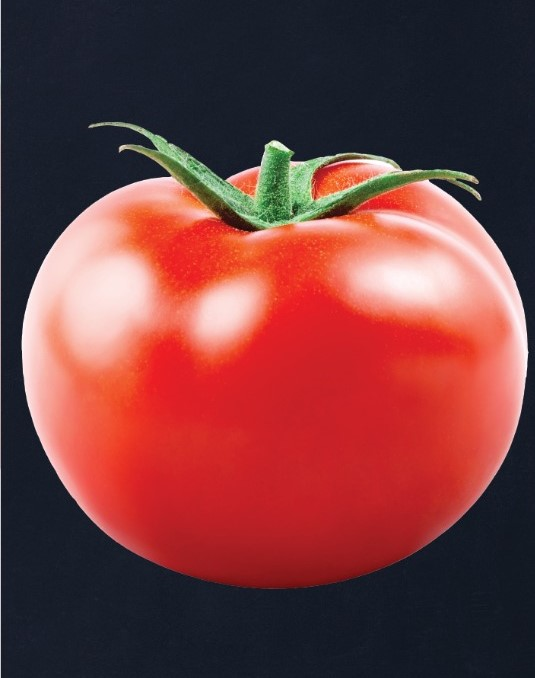tomato: (22, 141, 528, 591)
